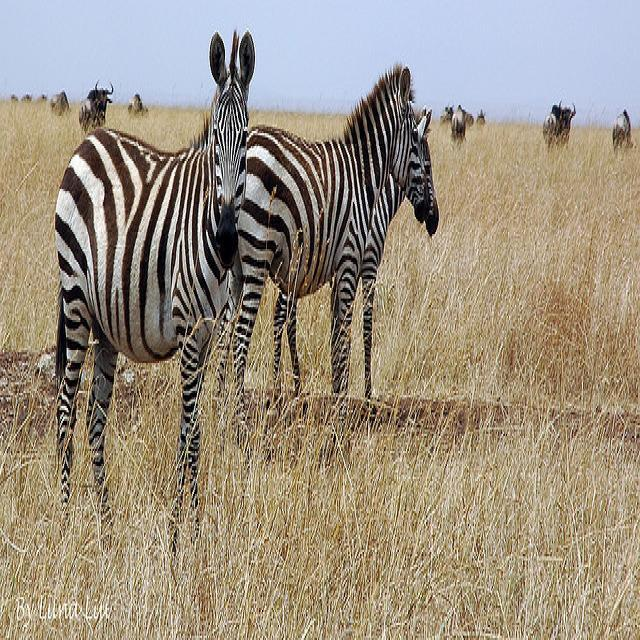cow: (77, 75, 113, 133), (542, 97, 574, 148), (611, 105, 632, 146)
